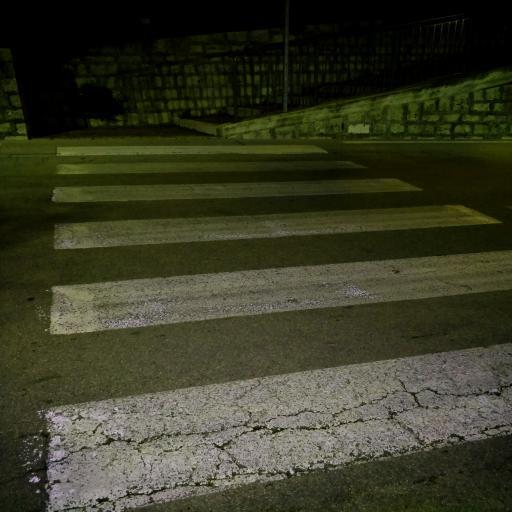crosswalk: (32, 174, 508, 256)
